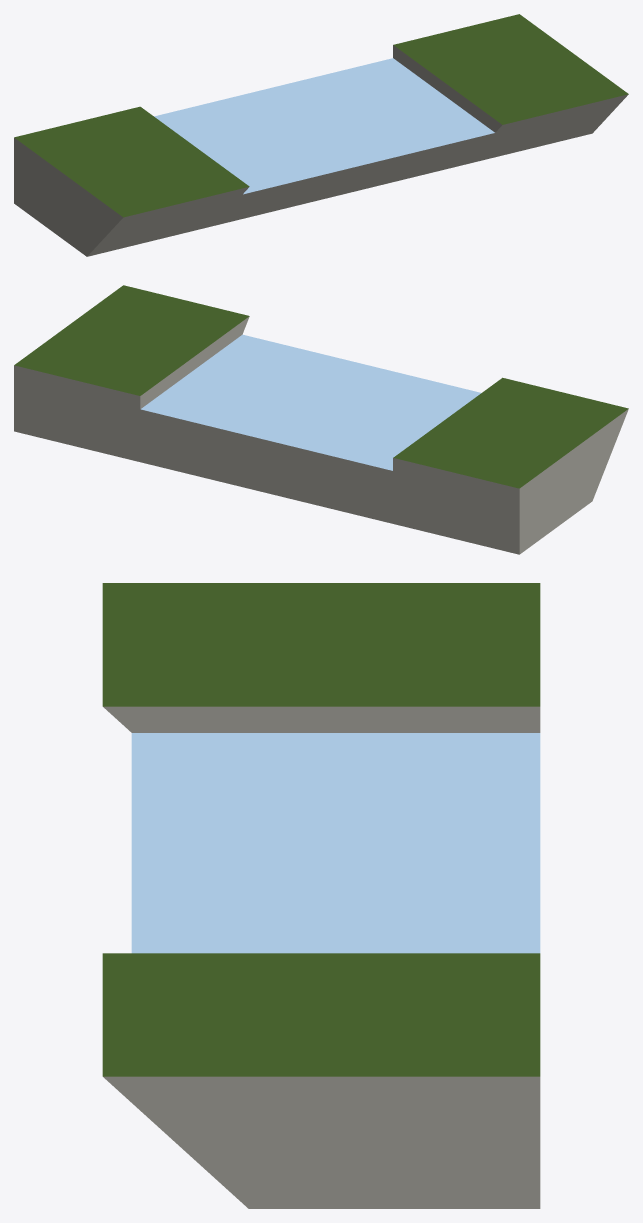
File: Terrain_Tile_Grass_Rock_Ledge_River_04.fbx
3 renders of one model, top to bottom at view 1: azimuth 30°, elevation 25°; view 2: azimuth 150°, elevation 25°; view 3: azimuth 270°, elevation 25°, orthographic. The views are drawn at different scales.
Visible parts, largest first — view 1: Terrain_Tile_Grass_Rock_Ledge_River_04; view 2: Terrain_Tile_Grass_Rock_Ledge_River_04; view 3: Terrain_Tile_Grass_Rock_Ledge_River_04.
Part boxes in pixels (left/top/right/bottom): Terrain_Tile_Grass_Rock_Ledge_River_04: left=14, top=14, right=628, bottom=256; Terrain_Tile_Grass_Rock_Ledge_River_04: left=14, top=285, right=628, bottom=554; Terrain_Tile_Grass_Rock_Ledge_River_04: left=102, top=583, right=540, bottom=1208.
Size of the model in its own units: 126 by 15.75 by 47.24.
